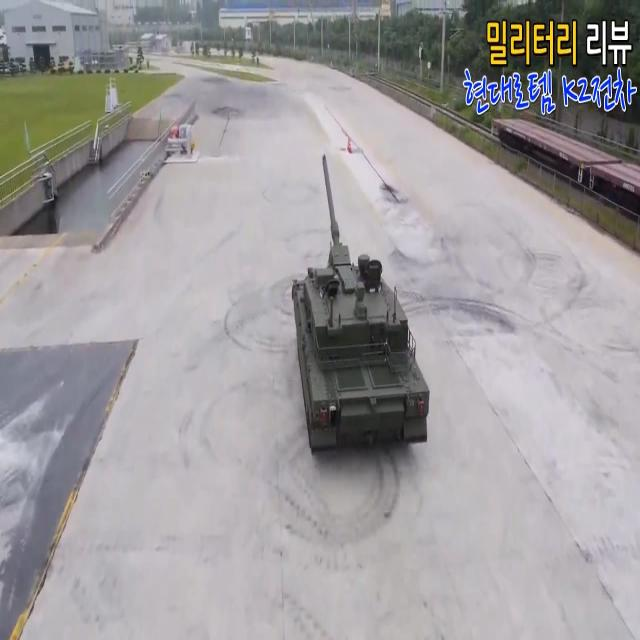korea tank: (291, 151, 429, 456)
